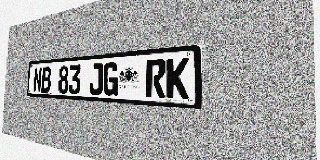3: (69, 65, 81, 94)
8: (58, 65, 69, 93)
B: (41, 67, 51, 93)
G: (103, 62, 118, 96)
J: (89, 63, 103, 95)
K: (166, 57, 189, 99)
N: (33, 67, 42, 92)
R: (146, 59, 166, 98)
